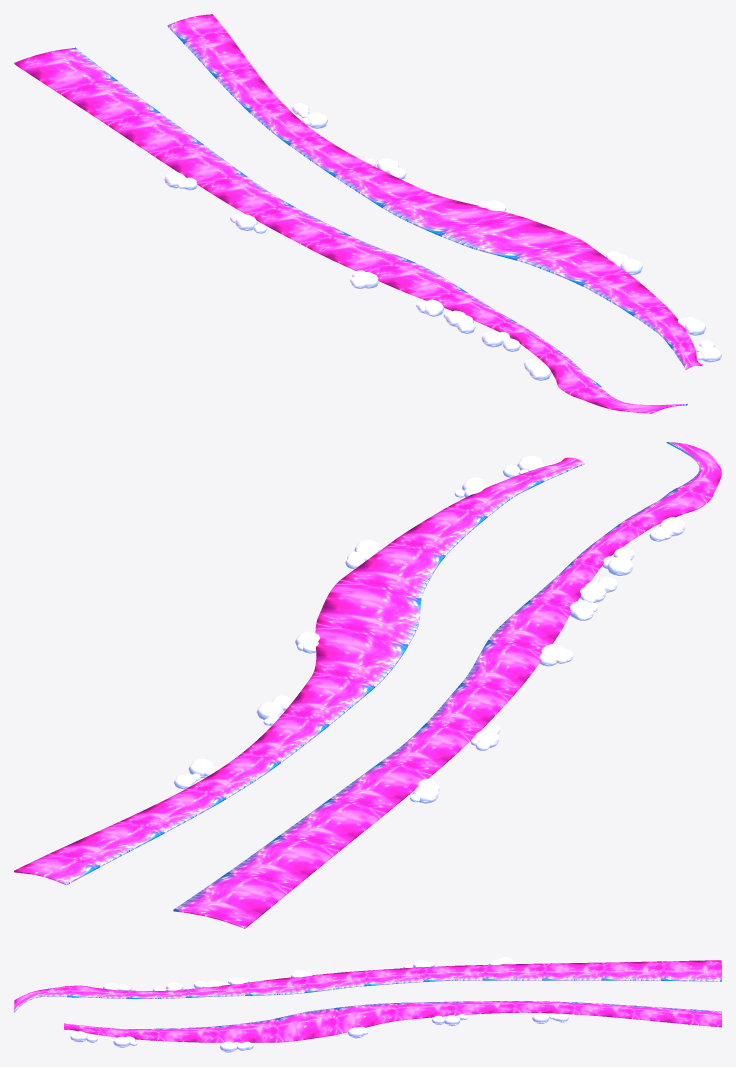
Rendered from s07-banks.glb.
The picture shows the model from 3 angles, top to bottom: view 1: azimuth 30°, elevation 25°; view 2: azimuth 150°, elevation 25°; view 3: azimuth 270°, elevation 25°; orthographic projection. The views are drawn at different scales.
Parts seen in each view (by area): view 1: right_bank, left_bank, left_foam, right_foam; view 2: right_bank, left_bank, left_foam, right_foam; view 3: left_bank, right_bank, right_foam, left_foam.
Boxes of the visible parts, x1=… form: right_bank: x1=167, y1=14, x2=702, y2=369; left_bank: x1=14, y1=47, x2=687, y2=413; left_foam: x1=164, y1=171, x2=551, y2=381; right_foam: x1=292, y1=103, x2=721, y2=362; right_bank: x1=14, y1=457, x2=584, y2=885; left_bank: x1=173, y1=442, x2=721, y2=928; left_foam: x1=410, y1=517, x2=685, y2=804; right_foam: x1=174, y1=455, x2=545, y2=789; left_bank: x1=14, y1=960, x2=721, y2=1012; right_bank: x1=64, y1=1001, x2=721, y2=1042; right_foam: x1=70, y1=1012, x2=568, y2=1052; left_foam: x1=103, y1=957, x2=516, y2=990.
Bounding box in the file's own units: 8.68 × 0.4264 × 28.62.
Materials: 2 (2 with a texture image).
